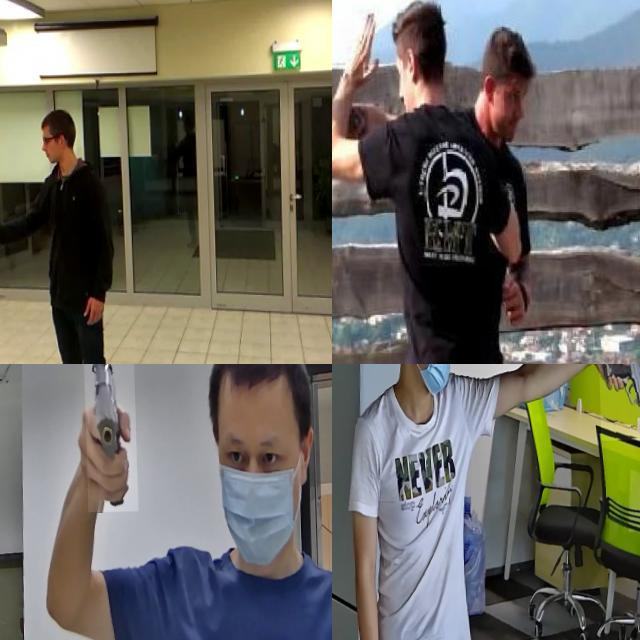-: (332, 54, 351, 187)
gun-knife-thesis - v11 Yolov5 augmented: (81, 364, 135, 513), (596, 364, 640, 442), (0, 208, 17, 244)
